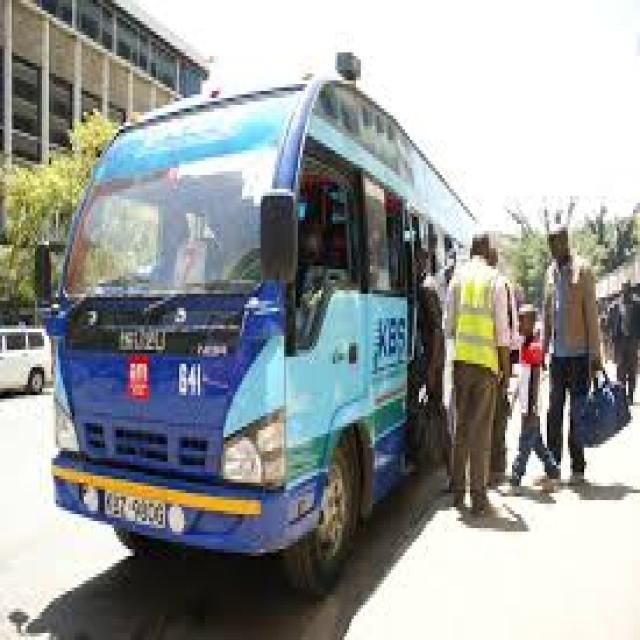bus: (17, 12, 540, 614)
